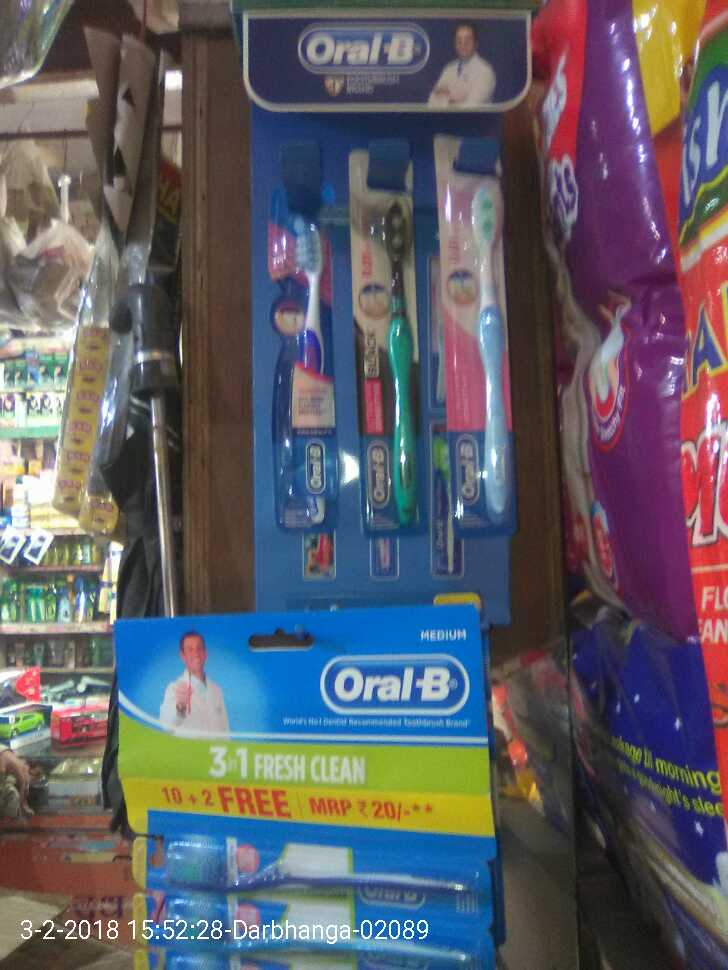oralb: (146, 811, 496, 915), (431, 139, 519, 530), (340, 146, 424, 529), (268, 190, 340, 530)
